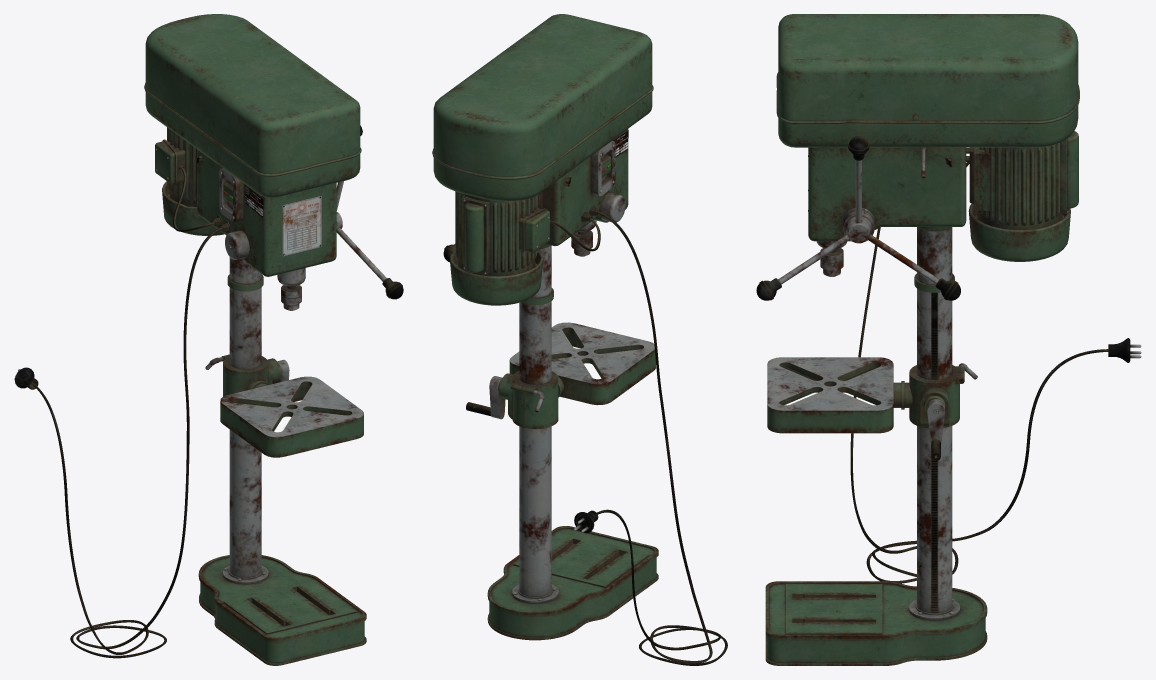
Rendered from old_drill_press.glb.
3 renders of one model, left to right at view 1: azimuth 30°, elevation 25°; view 2: azimuth 150°, elevation 25°; view 3: azimuth 270°, elevation 25°, orthographic. The views are drawn at different scales.
Parts seen in each view (by area): view 1: old_drill_press, old_drill_press_cable; view 2: old_drill_press, old_drill_press_cable; view 3: old_drill_press, old_drill_press_cable.
Boxes of the visible parts, x1,y1,x2,y2 form: old_drill_press: (144, 14, 403, 665); old_drill_press_cable: (14, 167, 222, 658); old_drill_press: (432, 14, 658, 640); old_drill_press_cable: (550, 211, 727, 665); old_drill_press: (756, 14, 1079, 665); old_drill_press_cable: (850, 162, 1141, 583).
Bounding box in the file's own units: 0.5272 × 1.05 × 0.6095.
1 material, 1 textured.
